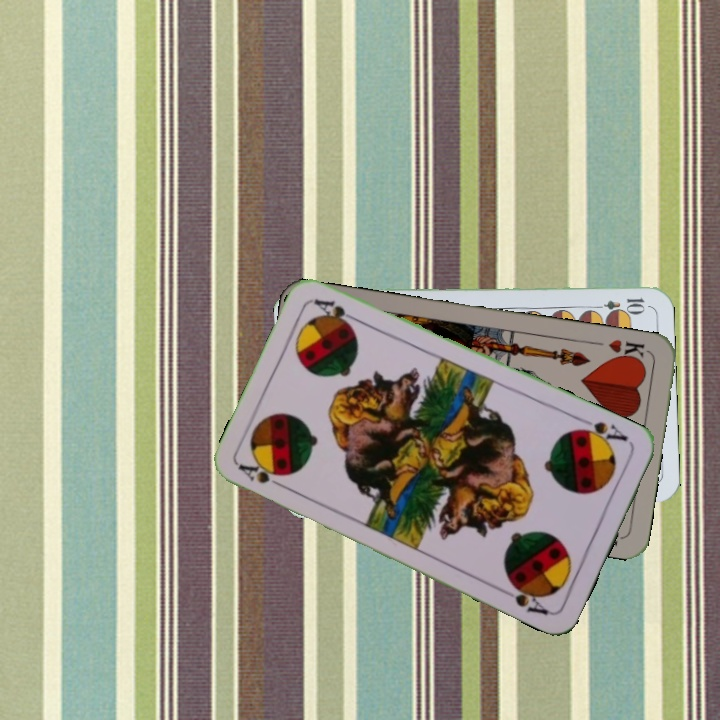E10: (588, 294, 648, 314)
HK: (605, 335, 651, 365)
SA: (572, 414, 630, 449), (234, 460, 291, 492)
